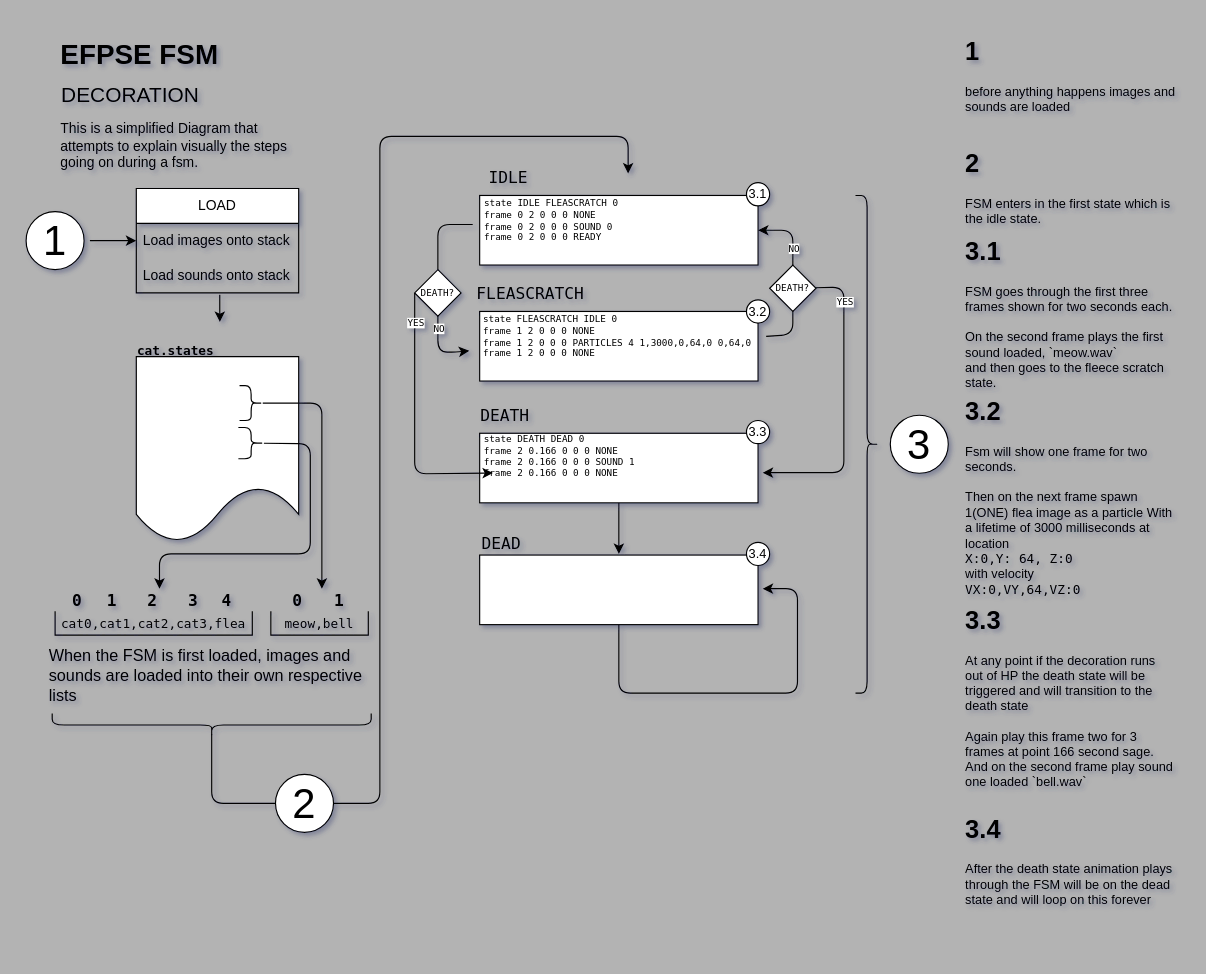
This 1206x974 diagram has some shape labels left out. Here are the shapes that lost their labels. From the top down, the box of each, then its label:
(135, 356, 299, 542): image cat 0 3 image flea sound meow sound bell
(478, 554, 758, 625): state DEAD NONE 0 frame 3 0.25 0 0 0 NONE frame 3 0.25 0 0 0 NONE
